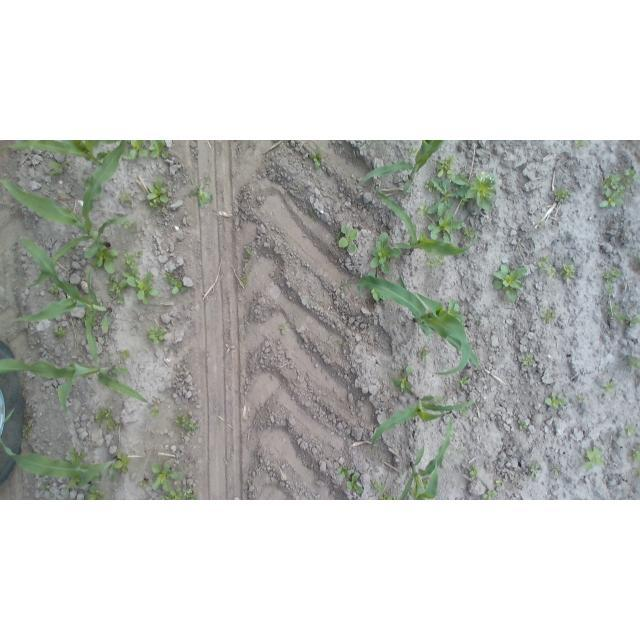Maize: (1, 141, 128, 292), (11, 238, 111, 367), (357, 273, 479, 376), (0, 408, 118, 497), (0, 356, 148, 423), (376, 186, 476, 257), (372, 386, 475, 454), (357, 140, 445, 198), (399, 414, 454, 500), (1, 140, 120, 168)
Weeds: (453, 172, 498, 211), (428, 202, 463, 246), (426, 178, 467, 215), (118, 268, 158, 305), (493, 264, 528, 304), (371, 232, 402, 274), (599, 174, 626, 209), (150, 463, 182, 492), (90, 246, 118, 274), (148, 180, 169, 215), (128, 140, 168, 158), (190, 178, 213, 208), (393, 365, 414, 396), (335, 226, 358, 254), (106, 276, 127, 304), (173, 414, 200, 435), (163, 272, 187, 294), (160, 486, 196, 500), (95, 408, 119, 429), (583, 446, 603, 471), (447, 299, 466, 325), (66, 447, 87, 466), (146, 325, 166, 344), (436, 156, 454, 177), (539, 255, 556, 277), (347, 473, 364, 495), (545, 392, 568, 408), (121, 251, 141, 269), (614, 314, 640, 327), (114, 452, 130, 472), (623, 168, 638, 188), (603, 267, 621, 283), (310, 147, 323, 169), (426, 254, 445, 269), (49, 161, 68, 176), (87, 485, 105, 500), (541, 308, 556, 325), (371, 288, 389, 302), (560, 263, 575, 279), (82, 311, 98, 326), (554, 187, 571, 201), (371, 479, 386, 494), (627, 444, 640, 461), (53, 327, 67, 341), (604, 304, 620, 316), (530, 462, 541, 479), (416, 204, 428, 219), (469, 463, 481, 478), (522, 354, 535, 367), (124, 220, 137, 233), (603, 381, 615, 395), (464, 227, 475, 242), (456, 376, 470, 387), (337, 467, 351, 478), (482, 490, 497, 500), (49, 285, 60, 298), (625, 425, 636, 437), (418, 349, 430, 360), (630, 357, 640, 370), (81, 176, 91, 189), (574, 140, 586, 150), (121, 191, 131, 203), (420, 478, 429, 491), (429, 395, 443, 403), (406, 145, 417, 155), (380, 492, 393, 500), (23, 426, 31, 439), (518, 419, 528, 429), (120, 349, 130, 359), (151, 407, 160, 418), (90, 474, 102, 482), (604, 286, 614, 295), (460, 406, 469, 415), (139, 480, 149, 488), (241, 275, 248, 286), (347, 280, 354, 291), (248, 141, 256, 150), (554, 466, 562, 475), (340, 279, 345, 293), (280, 325, 286, 336), (537, 220, 546, 227), (368, 271, 377, 278), (633, 468, 640, 477), (577, 394, 585, 401), (309, 209, 315, 218), (372, 182, 379, 189), (88, 391, 96, 397), (245, 247, 251, 254), (495, 479, 501, 485), (516, 476, 521, 483), (347, 435, 352, 441), (296, 337, 301, 343), (334, 341, 340, 346), (42, 484, 46, 491), (297, 185, 301, 192), (638, 252, 640, 263), (516, 242, 520, 247), (135, 390, 140, 394), (394, 496, 399, 500), (245, 259, 249, 262)
